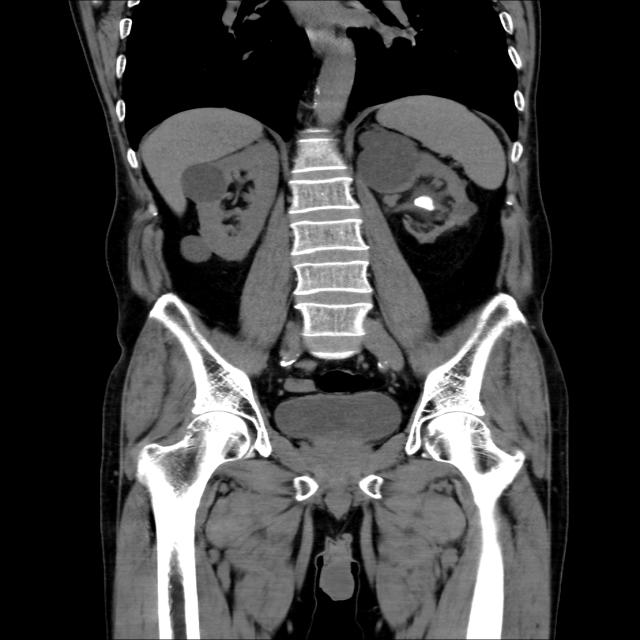kidneystone: (414, 196, 434, 211)
